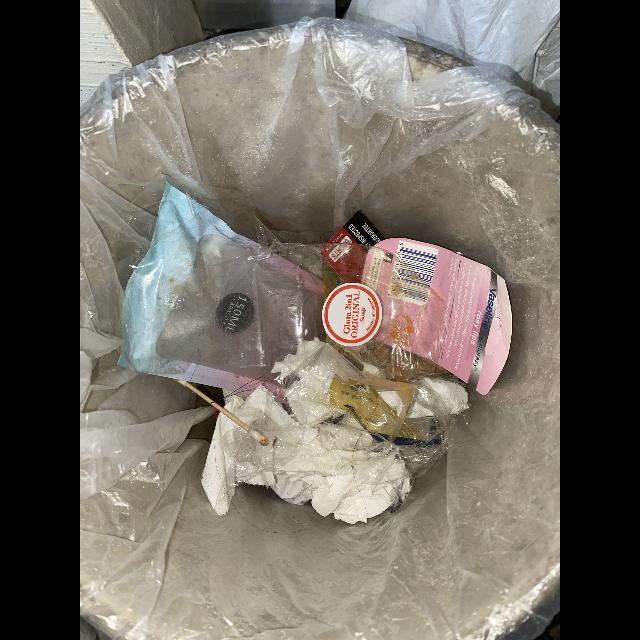paper: (202, 342, 410, 523), (373, 238, 513, 396)
